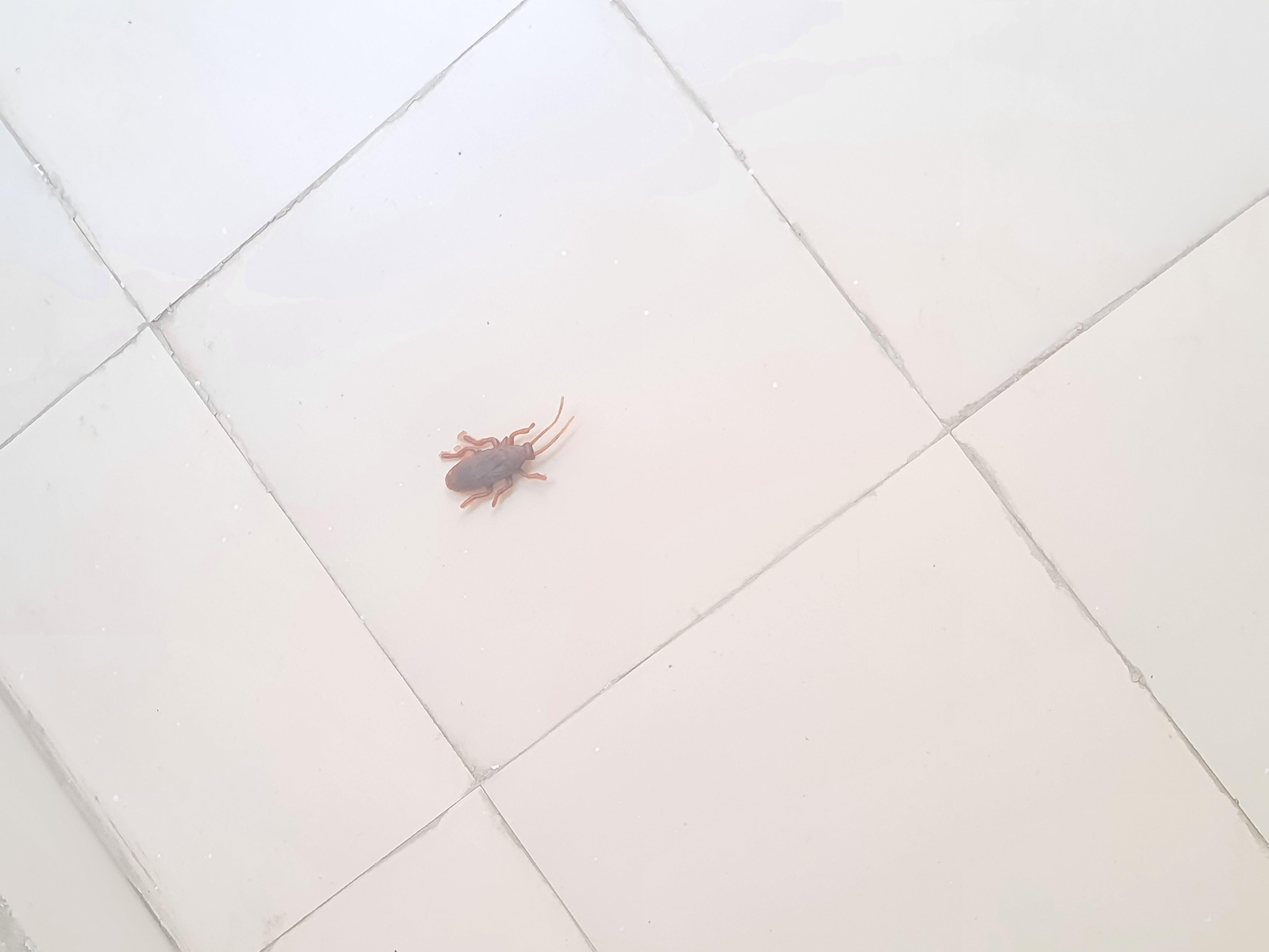cockroach: (557, 322, 745, 435)
